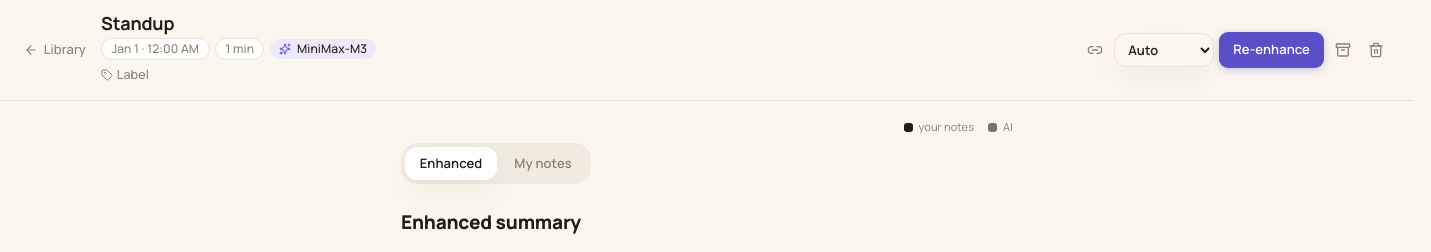
Test case: MeetingPost — live-recording redirect › keeps raw notes separate and sends only them to Re-enhance
The image size is (1431, 252).
Expected: the heading "Enhanced summary" is shown, x1=401 y1=209 x2=581 y2=235
Expected: the element with test id "llm-pill" reads "MiniMax-M3", x1=297 y1=40 x2=367 y2=57
Step 1. Click the tab "My notes" → click(543, 163), box x1=499 y1=147 x2=587 y2=180
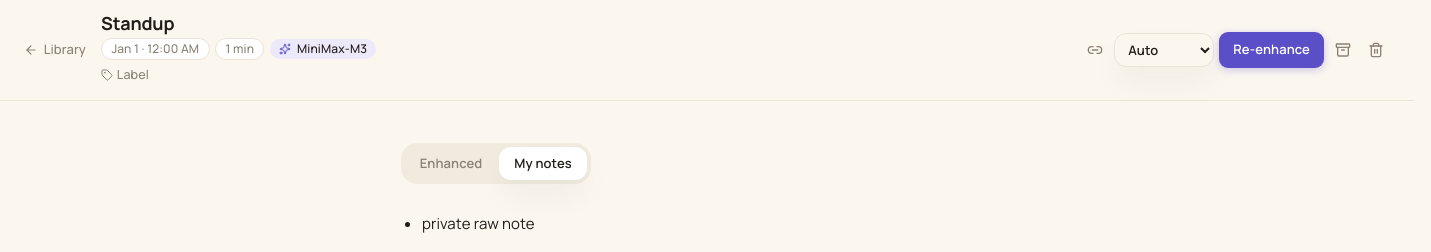
Result: the text box "private raw note" is shown at x1=422 y1=213 x2=535 y2=234
Step 2. Click the button with test id "re-enhance-button" → click(1272, 50), box x1=1219 y1=32 x2=1324 y2=68
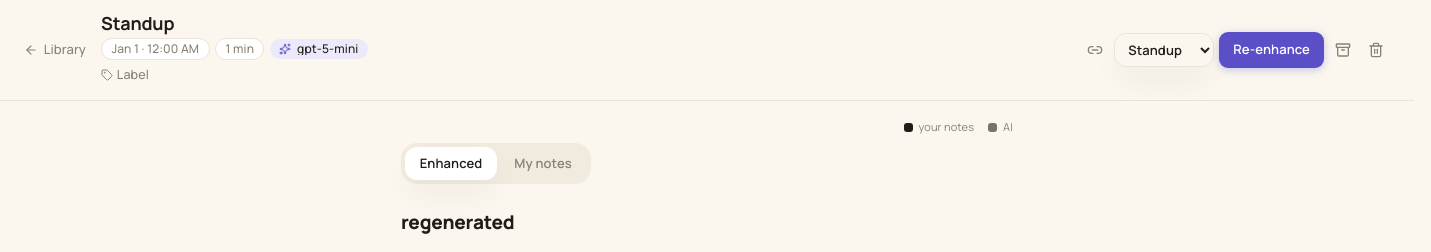
Result: the element with test id "llm-pill" reads "gpt-5-mini" at x1=297 y1=40 x2=358 y2=57
